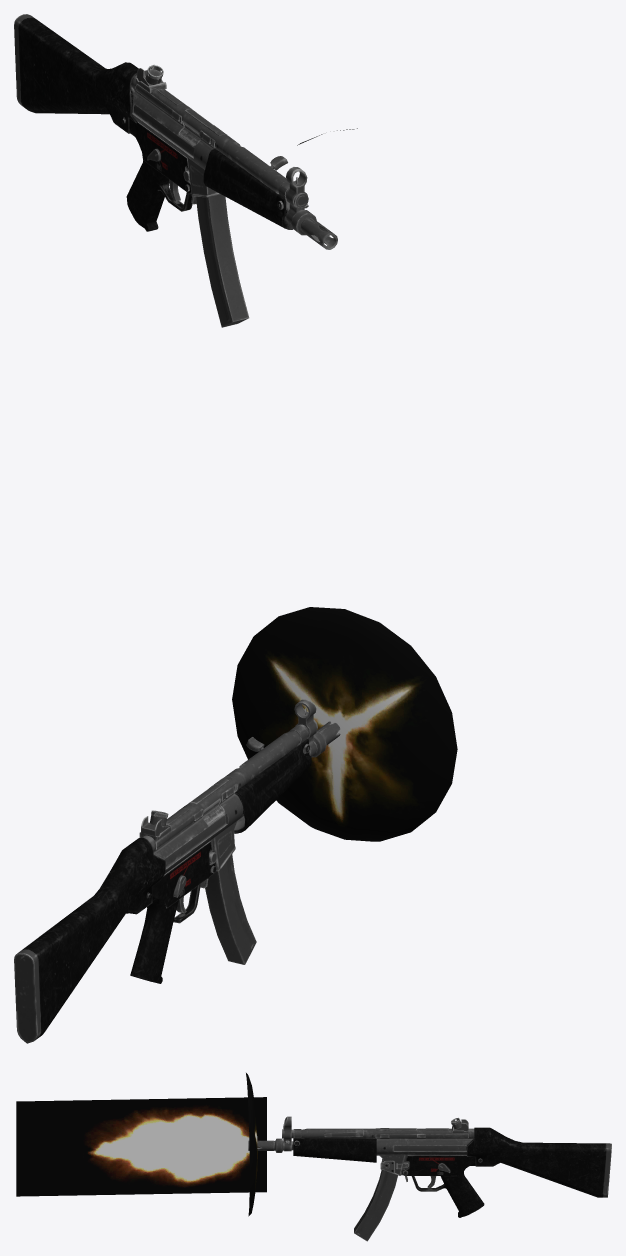
3 renders of one model, top to bottom at view 1: azimuth 30°, elevation 25°; view 2: azimuth 150°, elevation 25°; view 3: azimuth 270°, elevation 25°, orthographic. The views are drawn at different scales.
Parts seen in each view (by area): view 1: MP5_upd, MP5_upd_mag; view 2: MuzzleFlash, MP5_upd (×2), MP5_upd_mag (×2); view 3: MuzzleFlash, MP5_upd (×2), MP5_upd_mag.
Boxes of the visible parts, x1=… form: MP5_upd: x1=14, y1=14, x2=337, y2=249; MP5_upd_mag: x1=196, y1=194, x2=249, y2=327; MuzzleFlash: x1=232, y1=607, x2=457, y2=841; MP5_upd (×2): x1=14, y1=699, x2=340, y2=1043; MP5_upd_mag (×2): x1=205, y1=854, x2=256, y2=964; MuzzleFlash: x1=16, y1=1073, x2=266, y2=1216; MP5_upd (×2): x1=248, y1=1116, x2=611, y2=1217; MP5_upd_mag: x1=354, y1=1170, x2=397, y2=1241.
Size of the model in its own units: 0.249 by 0.3002 by 1.02.
Materials: 2 (2 with a texture image).
